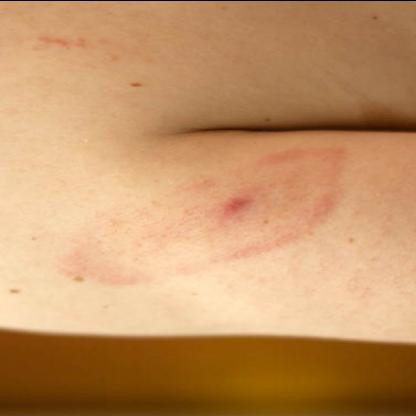Tick: (54, 142, 360, 286)
